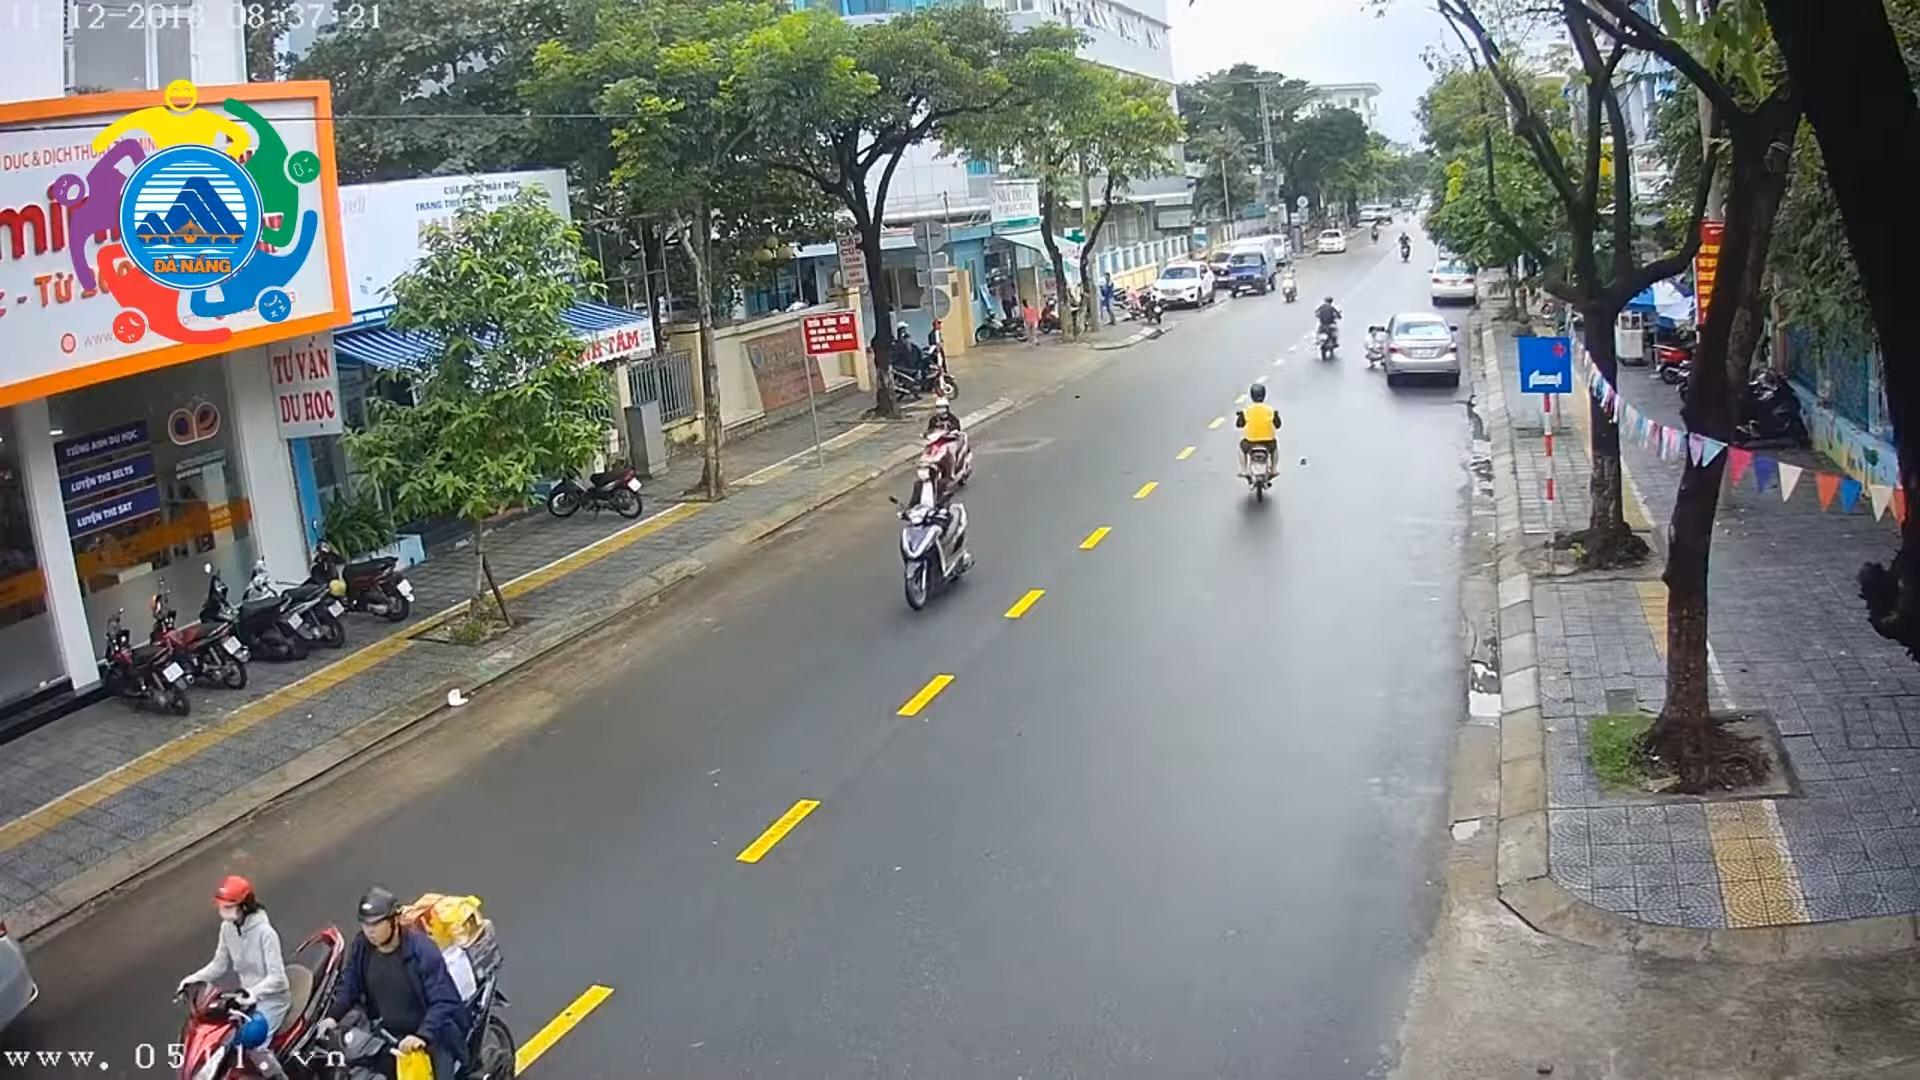car: (1382, 299, 1468, 392), (1150, 253, 1220, 313), (1424, 253, 1495, 311), (1311, 227, 1354, 256)
motorcycle: (167, 876, 345, 1080), (326, 881, 505, 1080), (885, 459, 976, 617), (194, 555, 315, 665), (1217, 372, 1315, 508), (141, 578, 252, 695), (301, 516, 415, 624), (98, 604, 196, 721), (243, 547, 348, 649), (906, 388, 992, 509), (547, 446, 647, 521), (880, 315, 960, 405), (1307, 282, 1353, 372), (1267, 252, 1300, 310), (1393, 225, 1418, 274)
truck: (1222, 227, 1286, 306)
